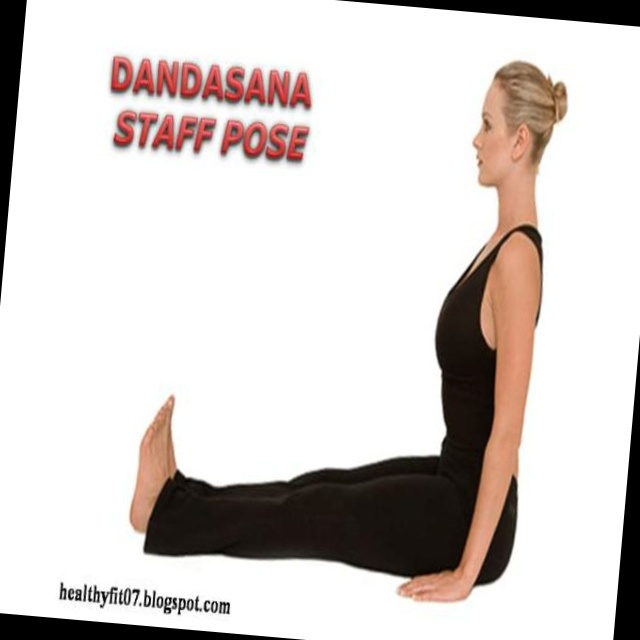Staff_Pose: (130, 61, 553, 607)
